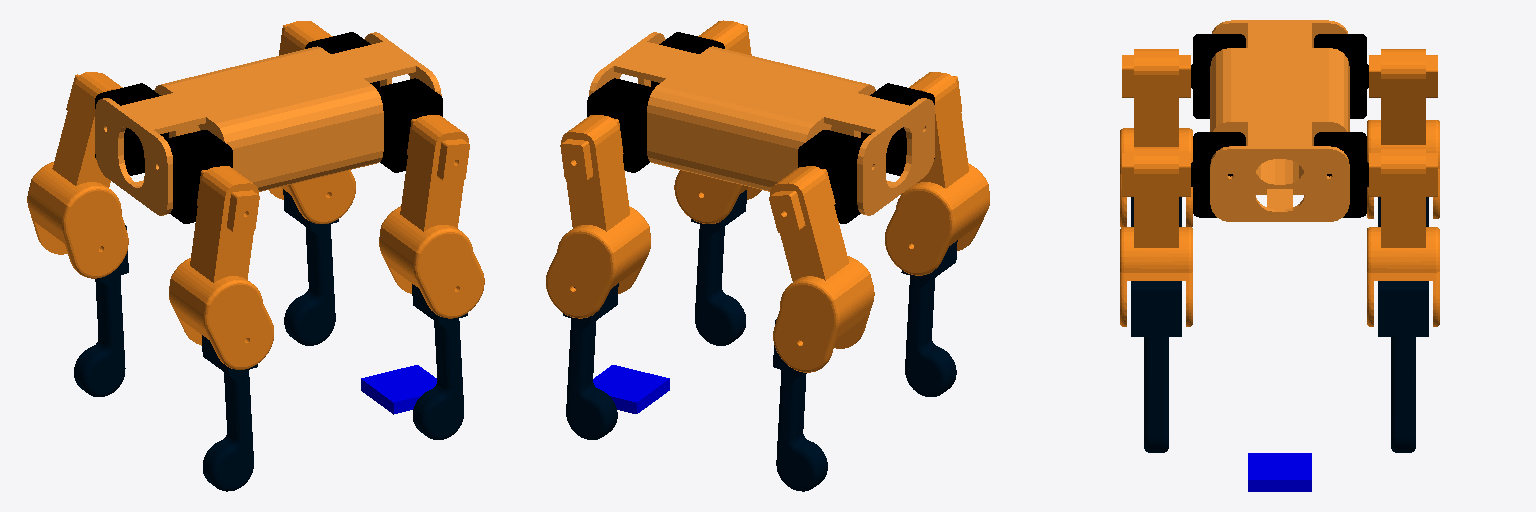
robot.urdf — dogai:
<?xml version="1.0" encoding="utf-8"?>
<!-- This URDF was automatically created by SolidWorks to URDF Exporter! Originally created by [author] ([email redacted]) 
     Commit Version: 1.6.0-1-g15f4949  Build Version: 1.6.7594.29634
     For more information, please see http://wiki.ros.org/sw_urdf_exporter -->
<robot      name="dogai">

  
  <link name="dummy_link">
    <visual>
      <geometry>
        <box size="0.05 0.05 0.01"/>
      </geometry>
      <material name="blue">
        <color rgba="0 0 1 0.5"/>
      </material>
    </visual>
  </link>


  <link    name="body">
    <inertial>
      <origin
        xyz="-0.12 3.58583592059203E-18 0.000453027438163317"
        rpy="0 0 0" />
      <mass        value="0.811907814662676" />
      <inertia
        ixx="0.00127955543801939"
        ixy="-1.85461131164749E-19"
        ixz="1.85975719874586E-19"
        iyy="0.0024910656563309"
        iyz="-6.4082846995349E-20"
        izz="0.00311545300041847" />
    </inertial>
    <visual>
      <origin
        xyz="0 0 0"
        rpy="0 0 0" />
      <geometry>
        <mesh          filename="package://dogai/meshes/body.STL" />
      </geometry>
      <material        name="">
        <color          rgba="1 0.611764705882353 0.219607843137255 1" />
      </material>
    </visual>
    <collision>
      <origin
        xyz="0 0 0"
        rpy="0 0 0" />
      <geometry>
        <mesh          filename="package://dogai/meshes/body.STL" />
      </geometry>
    </collision>
  </link>

  
  <joint name="dummy_joint" type="fixed">
    <origin xyz="0 0 0.25" rpy="0 0 0"/>
    <parent link="dummy_link"/>
    <child link="body"/>
  </joint>



  <link    name="shoulder_fr">
    <inertial>
      <origin
        xyz="0.0115975106554325 -0.00913432556897404 3.46944695195361E-18"
        rpy="0 0 0" />
      <mass        value="0.106289004701676" />
      <inertia
        ixx="3.25774990855459E-05"
        ixy="-9.46709865303844E-08"
        ixz="2.81691056869778E-22"
        iyy="4.53186517428609E-05"
        iyz="2.49180640175676E-21"
        izz="4.32581209996743E-05" />
    </inertial>
    <visual>
      <origin
        xyz="0 0 0"
        rpy="0 0 0" />
      <geometry>
        <mesh          filename="package://dogai/meshes/shoulder_fr.STL" />
      </geometry>
      <material        name="">
        <color          rgba="0 0 0 1" />
      </material>
    </visual>
    <collision>
      <origin
        xyz="0 0 0"
        rpy="0 0 0" />
      <geometry>
        <mesh          filename="package://dogai/meshes/shoulder_fr.STL" />
      </geometry>
    </collision>
  </link>

  <joint    name="shoulder_fr_j"    type="revolute">
    <origin
      xyz="-0.0275 -0.039 0.008"
      rpy="0 1.5708 0" />
    <parent
      link="body" />
    <child
      link="shoulder_fr" />
    <axis
      xyz="0 0 1" />
    <limit      lower="-0.75"      upper="1"      effort="1"      velocity="4" />
  </joint>
  <link    name="leg_fr">
    <inertial>
      <origin
        xyz="0.0487781480399099 -0.00604686128392776 -4.64900895558173E-11"
        rpy="0 0 0" />
      <mass        value="0.193999611092193" />
      <inertia
        ixx="8.48586935457572E-05"
        ixy="2.19246058611957E-05"
        ixz="-5.96478438812459E-12"
        iyy="0.000321240412259336"
        iyz="-2.85920133696985E-11"
        izz="0.000299935255132482" />
    </inertial>
    <visual>
      <origin
        xyz="0 0 0"
        rpy="0 0 0" />
      <geometry>
        <mesh          filename="package://dogai/meshes/leg_fr.STL" />
      </geometry>
      <material        name="">
        <color          rgba="1 0.576470588235294 0.152941176470588 1" />
      </material>
    </visual>
    <collision>
      <origin
        xyz="0 0 0"
        rpy="0 0 0" />
      <geometry>
        <mesh          filename="package://dogai/meshes/leg_fr.STL" />
      </geometry>
    </collision>
  </link>
  <joint    name="leg_fr_j"    type="revolute">
    <origin
      xyz="0.0115 -0.0585 0"
      rpy="1.5708 0 0" />
    <parent
      link="shoulder_fr" />
    <child
      link="leg_fr" />
    <axis
      xyz="0 0 -1" />
    <limit      lower="-1.5"      upper="1.57"      effort="1"      velocity="4" />
  </joint>
  <link    name="foreleg_fr">
    <inertial>
      <origin
        xyz="0.052106825436364 0.00242636941342475 -1.4779647575236E-08"
        rpy="0 0 0" />
      <mass        value="0.0838297623786511" />
      <inertia
        ixx="1.2288603982173E-05"
        ixy="-2.54469730030702E-06"
        ixz="1.34161791074069E-11"
        iyy="0.000188049108154985"
        iyz="-9.8833640536893E-12"
        izz="0.000186982160883614" />
    </inertial>
    <visual>
      <origin
        xyz="0 0 0"
        rpy="0 0 0" />
      <geometry>
        <mesh          filename="package://dogai/meshes/foreleg_fr.STL" />
      </geometry>
      <material        name="">
        <color          rgba="0 0.0901960784313725 0.164705882352941 1" />
      </material>
    </visual>
    <collision>
      <origin
        xyz="0 0 0"
        rpy="0 0 0" />
      <geometry>
        <mesh          filename="package://dogai/meshes/foreleg_fr.STL" />
      </geometry>
    </collision>
  </link>
  <joint    name="foreleg_fr_j"    type="revolute">
    <origin
      xyz="0.10508 0 0"
      rpy="0 0 0" />
    <parent
      link="leg_fr" />
    <child
      link="foreleg_fr" />
    <axis
      xyz="0 0 -1" />
    <limit      lower="-2"      upper="0.5"      effort="1"      velocity="4" />
  </joint>
  <link    name="shoulder_fl">
    <inertial>
      <origin
        xyz="0.0115975106554325 0.00913432556897403 0"
        rpy="0 0 0" />
      <mass        value="0.106289004701676" />
      <inertia
        ixx="3.25774990855459E-05"
        ixy="9.46709865303844E-08"
        ixz="8.54200615108665E-22"
        iyy="4.53186517428609E-05"
        iyz="1.77572005178435E-21"
        izz="4.32581209996743E-05" />
    </inertial>
    <visual>
      <origin
        xyz="0 0 0"
        rpy="0 0 0" />
      <geometry>
        <mesh          filename="package://dogai/meshes/shoulder_fl.STL" />
      </geometry>
      <material        name="">
        <color          rgba="0 0 0 1" />
      </material>
    </visual>
    <collision>
      <origin
        xyz="0 0 0"
        rpy="0 0 0" />
      <geometry>
        <mesh          filename="package://dogai/meshes/shoulder_fl.STL" />
      </geometry>
    </collision>
  </link>
  <joint    name="shoulder_fl_j"    type="revolute">
    <origin
      xyz="-0.0275 0.039 0.008"
      rpy="0 1.5708 0" />
    <parent
      link="body" />
    <child
      link="shoulder_fl" />
    <axis
      xyz="0 0 -1" />
    <limit      lower="-0.75"      upper="1"      effort="1"      velocity="4" />
  </joint>
  <link    name="leg_fl">
    <inertial>
      <origin
        xyz="0.0487781480399099 -0.00604686128392776 -4.64900756780295E-11"
        rpy="0 0 0" />
      <mass        value="0.193999611092193" />
      <inertia
        ixx="8.48586935457572E-05"
        ixy="2.19246058611957E-05"
        ixz="-5.96478440223836E-12"
        iyy="0.000321240412259336"
        iyz="-2.85920133655843E-11"
        izz="0.000299935255132482" />
    </inertial>
    <visual>
      <origin
        xyz="0 0 0"
        rpy="0 0 0" />
      <geometry>
        <mesh          filename="package://dogai/meshes/leg_fl.STL" />
      </geometry>
      <material        name="">
        <color          rgba="1 0.576470588235294 0.152941176470588 1" />
      </material>
    </visual>
    <collision>
      <origin
        xyz="0 0 0"
        rpy="0 0 0" />
      <geometry>
        <mesh          filename="package://dogai/meshes/leg_fl.STL" />
      </geometry>
    </collision>
  </link>
  <joint    name="leg_fl_j"    type="revolute">
    <origin
      xyz="0.0115 0.0585 0"
      rpy="1.5708 0 0" />
    <parent
      link="shoulder_fl" />
    <child
      link="leg_fl" />
    <axis
      xyz="0 0 -1" />
    <limit      lower="-1.5"      upper="1.57"      effort="1"      velocity="4" />
  </joint>
  <link    name="foreleg_fl">
    <inertial>
      <origin
        xyz="0.052106825436364 0.00242636941342481 -1.47796475891138E-08"
        rpy="0 0 0" />
      <mass        value="0.0838297623786512" />
      <inertia
        ixx="1.2288603982173E-05"
        ixy="-2.54469730030704E-06"
        ixz="1.34161791054919E-11"
        iyy="0.000188049108154985"
        iyz="-9.88336405473273E-12"
        izz="0.000186982160883614" />
    </inertial>
    <visual>
      <origin

        xyz="0 0 0"
        rpy="0 0 0" />
      <geometry>
        <mesh          filename="package://dogai/meshes/foreleg_fl.STL" />
      </geometry>
      <material        name="">
        <color          rgba="0 0.0901960784313725 0.164705882352941 1" />
      </material>
    </visual>
    <collision>
      <origin
        xyz="0 0 0"
        rpy="0 0 0" />
      <geometry>
        <mesh          filename="package://dogai/meshes/foreleg_fl.STL" />
      </geometry>
    </collision>
  </link>
  <joint    name="foreleg_fl_j"    type="revolute">
    <origin

      xyz="0.10508 0 0"
      rpy="0 0 0" />
    <parent
      link="leg_fl" />
    <child
      link="foreleg_fl" />
    <axis
      xyz="0 0 -1" />
    <limit      lower="-2"      upper="0.5"      effort="1"      velocity="4" />
  </joint>
  <link    name="shoulder_br">
    <inertial>
      <origin
        xyz="0.0115975106554326 -0.00913432556897405 0"
        rpy="0 0 0" />
      <mass        value="0.106289004701676" />
      <inertia
        ixx="3.25774990855459E-05"
        ixy="-9.4670986530385E-08"
        ixz="1.23665490626393E-21"
        iyy="4.5318651742861E-05"
        iyz="8.73634123269913E-22"
        izz="4.32581209996744E-05" />
    </inertial>
    <visual>
      <origin
        xyz="0 0 0"
        rpy="0 0 0" />
      <geometry>
        <mesh          filename="package://dogai/meshes/shoulder_br.STL" />
      </geometry>
      <material        name="">
        <color          rgba="0 0 0 1" />
      </material>
    </visual>
    <collision>
      <origin
        xyz="0 0 0"
        rpy="0 0 0" />
      <geometry>
        <mesh          filename="package://dogai/meshes/shoulder_br.STL" />
      </geometry>
    </collision>
  </link>
  <joint    name="shoulder_br_j"    type="revolute">
    <origin

      xyz="-0.2115 -0.039 0.00799999999999997"
      rpy="0 1.5707963267949 0" />
    <parent
      link="body" />
    <child
      link="shoulder_br" />
    <axis
      xyz="0 0 1" />
    <limit      lower="-0.75"      upper="1"      effort="1"      velocity="4" />
  </joint>
  <link    name="leg_br">
    <inertial>
      <origin
        xyz="0.0487781480399099 -0.00604686128392776 -4.64900618002417E-11"
        rpy="0 0 0" />
      <mass        value="0.193999611092193" />
      <inertia
        ixx="8.48586935457571E-05"
        ixy="2.19246058611956E-05"
        ixz="-5.96478434304677E-12"
        iyy="0.000321240412259335"
        iyz="-2.85920133694893E-11"
        izz="0.000299935255132482" />
    </inertial>
    <visual>
      <origin
        xyz="0 0 0"
        rpy="0 0 0" />
      <geometry>
        <mesh          filename="package://dogai/meshes/leg_br.STL" />
      </geometry>
      <material        name="">
        <color          rgba="1 0.576470588235294 0.152941176470588 1" />
      </material>
    </visual>
    <collision>
      <origin
        xyz="0 0 0"
        rpy="0 0 0" />
      <geometry>
        <mesh          filename="package://dogai/meshes/leg_br.STL" />
      </geometry>
    </collision>
  </link>
  <joint    name="leg_br_j"    type="revolute">
    <origin

      xyz="0.0115 -0.0585 0"
      rpy="1.5708 0 0" />
    <parent
      link="shoulder_br" />
    <child
      link="leg_br" />
    <axis
      xyz="0 0 -1" />
    <limit      lower="-1.5"      upper="1.57"      effort="1"      velocity="4" />
  </joint>
  <link    name="foreleg_br">
    <inertial>
      <origin
        xyz="0.052106825436364 0.00242636941342481 -1.47796475474804E-08"
        rpy="0 0 0" />
      <mass        value="0.0838297623786512" />
      <inertia
        ixx="1.2288603982173E-05"
        ixy="-2.54469730030704E-06"
        ixz="1.34161790947658E-11"
        iyy="0.000188049108154985"
        iyz="-9.88336405360866E-12"
        izz="0.000186982160883614" />
    </inertial>
    <visual>
      <origin
        xyz="0 0 0"
        rpy="0 0 0" />
      <geometry>
        <mesh          filename="package://dogai/meshes/foreleg_br.STL" />
      </geometry>
      <material        name="">
        <color          rgba="0 0.0901960784313725 0.164705882352941 1" />
      </material>
    </visual>
    <collision>
      <origin
        xyz="0 0 0"
        rpy="0 0 0" />
      <geometry>
        <mesh          filename="package://dogai/meshes/foreleg_br.STL" />
      </geometry>
    </collision>
  </link>
  <joint    name="foreleg_br_j"    type="revolute">
    <origin

      xyz="0.105076162853427 0 0"
      rpy="0 0 0" />
    <parent
      link="leg_br" />
    <child
      link="foreleg_br" />
    <axis
      xyz="0 0 -1" />
    <limit      lower="-2"      upper="0.5"      effort="1"      velocity="4" />
  </joint>
  <link    name="shoulder_bl">
    <inertial>
      <origin
        xyz="0.0115975106554325 0.00913432556897404 -2.77555756156289E-17"
        rpy="0 0 0" />
      <mass        value="0.106289004701676" />
      <inertia
        ixx="3.25774990855458E-05"
        ixy="9.46709865303811E-08"
        ixz="1.19512524616781E-21"
        iyy="4.53186517428609E-05"
        iyz="-1.22375044130056E-22"
        izz="4.32581209996743E-05" />
    </inertial>
    <visual>
      <origin
        xyz="0 0 0"
        rpy="0 0 0" />
      <geometry>
        <mesh          filename="package://dogai/meshes/shoulder_bl.STL" />
      </geometry>
      <material        name="">
        <color          rgba="0 0 0 1" />
      </material>
    </visual>
    <collision>
      <origin
        xyz="0 0 0"
        rpy="0 0 0" />
      <geometry>
        <mesh          filename="package://dogai/meshes/shoulder_bl.STL" />
      </geometry>
    </collision>
  </link>
  <joint    name="shoulder_bl_j"    type="revolute">
    <origin

      xyz="-0.2115 0.039 0.00800000000000001"
      rpy="0 1.5707963267949 0" />
    <parent
      link="body" />
    <child
      link="shoulder_bl" />
    <axis
      xyz="0 0 -1" />
    <limit      lower="-0.75"      upper="1"      effort="1"      velocity="4" />
  </joint>
  <link    name="leg_bl">
    <inertial>
      <origin
        xyz="0.0491417860643844 0.000978325095612409 -4.64900756780295E-11"
        rpy="0 0 0" />
      <mass        value="0.193999611092193" />
      <inertia
        ixx="8.34802963374992E-05"
        ixy="-1.23677185506077E-05"
        ixz="-1.8220818836435E-12"
        iyy="0.000322618809467593"
        iyz="-2.9150675793506E-11"
        izz="0.000299935255132482" />
    </inertial>
    <visual>
      <origin
        xyz="0 0 0"
        rpy="0 0 0" />
      <geometry>
        <mesh          filename="package://dogai/meshes/leg_bl.STL" />
      </geometry>
      <material        name="">
        <color          rgba="1 0.576470588235294 0.152941176470588 1" />
      </material>
    </visual>
    <collision>
      <origin
        xyz="0 0 0"
        rpy="0 0 0" />
      <geometry>
        <mesh          filename="package://dogai/meshes/leg_bl.STL" />
      </geometry>
    </collision>
  </link>
  <joint    name="leg_bl_j"    type="revolute">
    <origin

      xyz="0.0115 0.0585 0"
      rpy="1.5708 0.14324 0" />
    <parent
      link="shoulder_bl" />
    <child
      link="leg_bl" />
    <axis
      xyz="0 0 -1" />
    <limit      lower="-1.5"      upper="1.57"      effort="1"      velocity="4" />
  </joint>
  <link    name="foreleg_bl">
    <inertial>
      <origin
        xyz="0.0521068254363641 0.00242636941342483 -1.47796476029916E-08"
        rpy="0 0 0" />
      <mass        value="0.0838297623786512" />
      <inertia
        ixx="1.2288603982173E-05"
        ixy="-2.54469730030704E-06"
        ixz="1.34161790993394E-11"
        iyy="0.000188049108154985"
        iyz="-9.88336405391619E-12"
        izz="0.000186982160883614" />
    </inertial>
    <visual>
      <origin
        xyz="0 0 0"
        rpy="0 0 0" />
      <geometry>
        <mesh          filename="package://dogai/meshes/foreleg_bl.STL" />
      </geometry>
      <material        name="">
        <color          rgba="0 0.0901960784313725 0.164705882352941 1" />
      </material>
    </visual>
    <collision>
      <origin
        xyz="0 0 0"
        rpy="0 0 0" />
      <geometry>
        <mesh          filename="package://dogai/meshes/foreleg_bl.STL" />
      </geometry>
    </collision>
  </link>
  <joint    name="foreleg_bl_j"    type="revolute">
    <origin

      xyz="0.104 0.015 0"
      rpy="0 0 0.14324" />
    <parent
      link="leg_bl" />
    <child
      link="foreleg_bl" />
    <axis
      xyz="0 0 -1" />
    <limit      lower="-2"      upper="0.5"      effort="1"      velocity="4" />
  </joint>
</robot>

--- Render facts (derived) ---
3 views of the same robot in one strip: view 1: azimuth 30°, elevation 25°; view 2: azimuth 150°, elevation 25°; view 3: azimuth 270°, elevation 25° (orthographic).
Model dogai with 14 links and 13 joints (12 revolute, 1 fixed), rooted at dummy_link, posed every joint at zero.
Links seen in each view (by area): view 1: body, leg_fr, leg_br, leg_bl, foreleg_fl, foreleg_br, foreleg_fr, foreleg_bl, leg_fl, shoulder_br, shoulder_fr, dummy_link (+2 smaller); view 2: body, leg_bl, leg_fl, leg_br, foreleg_fr, foreleg_br, foreleg_fl, foreleg_bl, leg_fr, shoulder_fl, shoulder_bl, dummy_link (+2 smaller); view 3: body, leg_fr, leg_fl, leg_bl, leg_br, foreleg_fr, foreleg_fl, dummy_link, shoulder_fr, shoulder_fl, shoulder_br, shoulder_bl.
Link boxes in pixels (box(x1,y1,x2,y2)): body: box(95, 32, 441, 215); leg_fr: box(379, 115, 484, 318); leg_br: box(169, 166, 273, 369); leg_bl: box(27, 72, 128, 278); foreleg_fl: box(283, 189, 338, 345); foreleg_br: box(202, 335, 257, 491); foreleg_fr: box(412, 284, 467, 439); foreleg_bl: box(74, 225, 128, 396); leg_fl: box(269, 21, 355, 223); shoulder_br: box(165, 130, 232, 223); shoulder_fr: box(376, 78, 442, 172); dummy_link: box(361, 365, 436, 414); body: box(589, 32, 934, 215); leg_bl: box(769, 166, 874, 372); leg_fl: box(546, 115, 650, 318); leg_br: box(885, 72, 989, 275); foreleg_fr: box(691, 190, 746, 345); foreleg_br: box(901, 240, 957, 396); foreleg_fl: box(563, 283, 618, 439); foreleg_bl: box(773, 319, 827, 491); leg_fr: box(674, 20, 761, 223); shoulder_fl: box(587, 78, 654, 172); shoulder_bl: box(798, 130, 864, 223); dummy_link: box(593, 365, 669, 413); body: box(1210, 20, 1349, 221); leg_fr: box(1120, 147, 1192, 326); leg_fl: box(1367, 147, 1439, 326); leg_bl: box(1367, 49, 1439, 218); leg_br: box(1120, 49, 1192, 227); foreleg_fr: box(1131, 281, 1181, 452); foreleg_fl: box(1378, 281, 1428, 452); dummy_link: box(1248, 453, 1311, 491); shoulder_fr: box(1191, 132, 1245, 217); shoulder_fl: box(1314, 132, 1368, 217); shoulder_br: box(1191, 34, 1245, 118); shoulder_bl: box(1314, 34, 1368, 118).
Bounding box of the posed robot: 0.2844 × 0.253 × 0.287 m (x, y, z).
Meshes: 13 distinct files referenced, 13 mesh visuals loaded (13 binary STL).